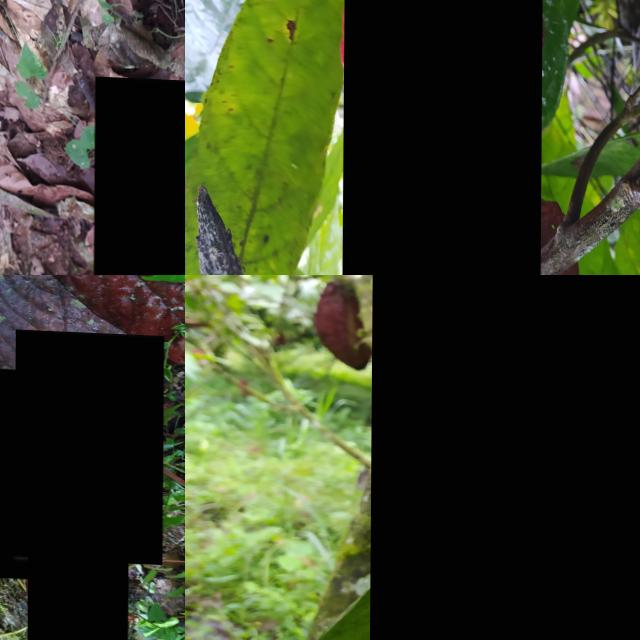Fitoftora: (343, 0, 545, 275), (15, 326, 164, 560)
Monilia: (370, 275, 640, 640)
Sana: (93, 73, 185, 275), (27, 538, 128, 640)
